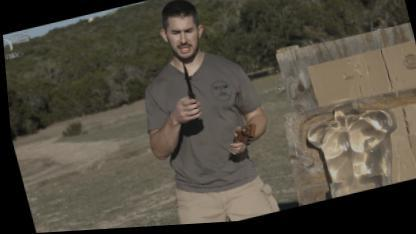knife: (162, 58, 204, 128)
